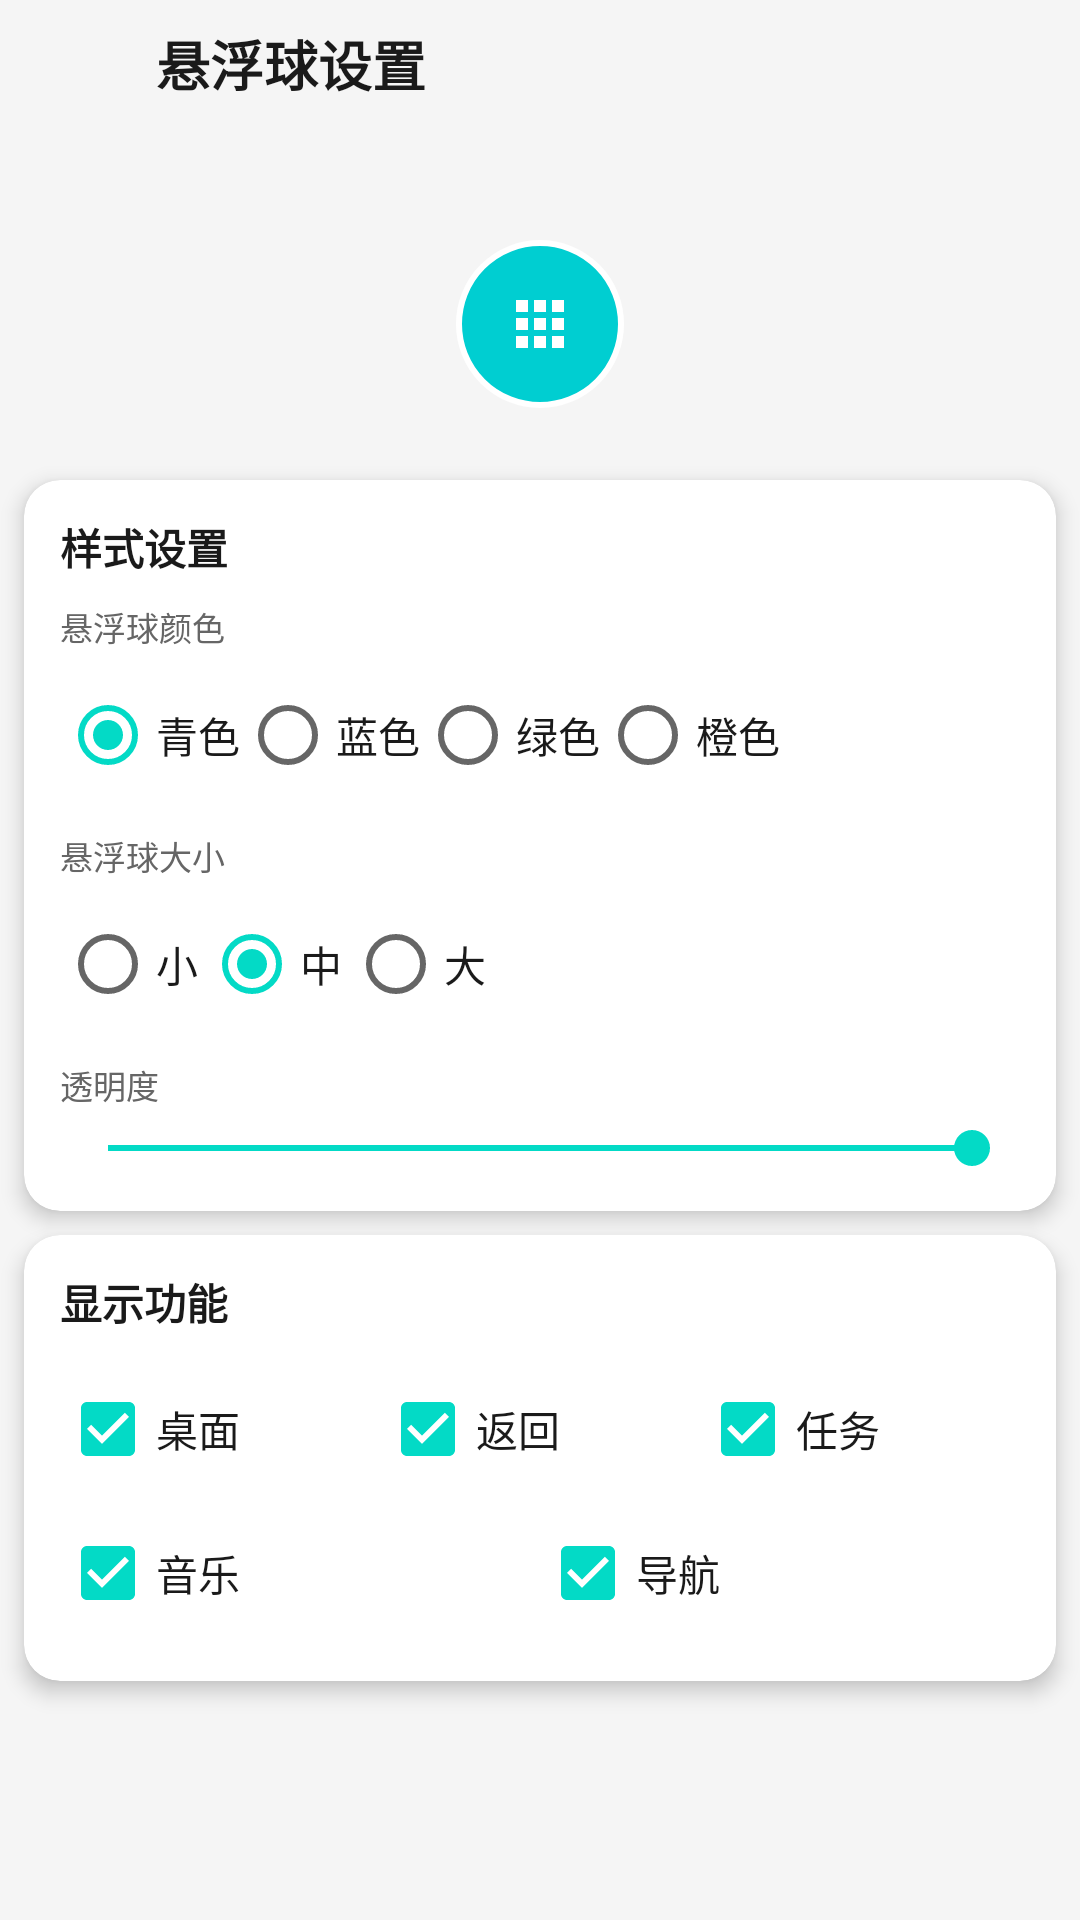

Icons on this 1080 × 1920 Android screen, each with the point to tap as point (x, y):
apps: point (540, 324)
